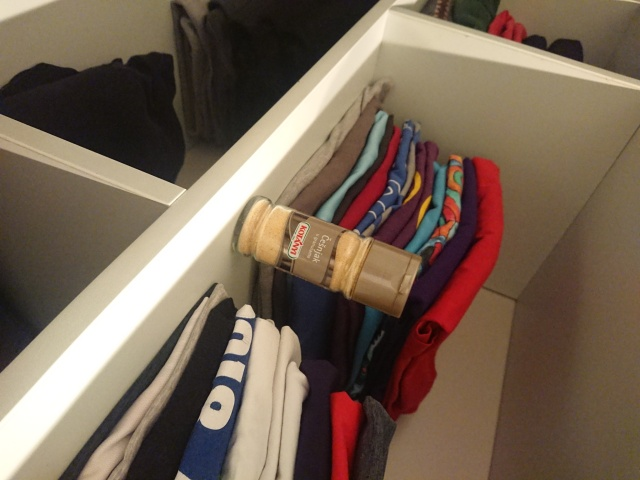Kotanyi Garlic Granules 70g: (229, 193, 424, 321)
